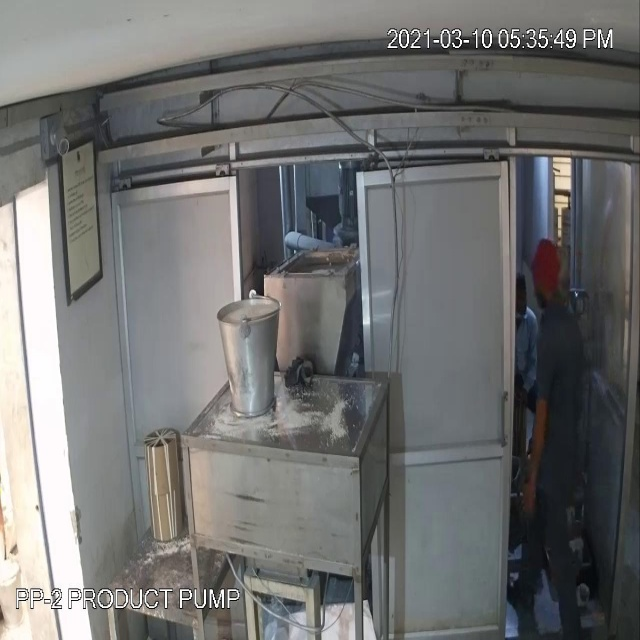Sin_guantes: (513, 412, 552, 532)
